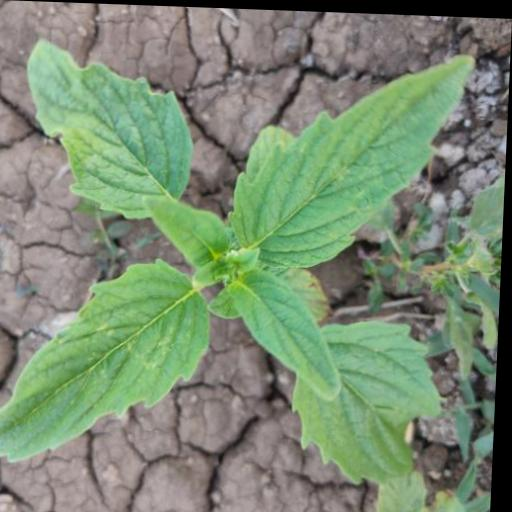crop: (0, 33, 485, 484)
